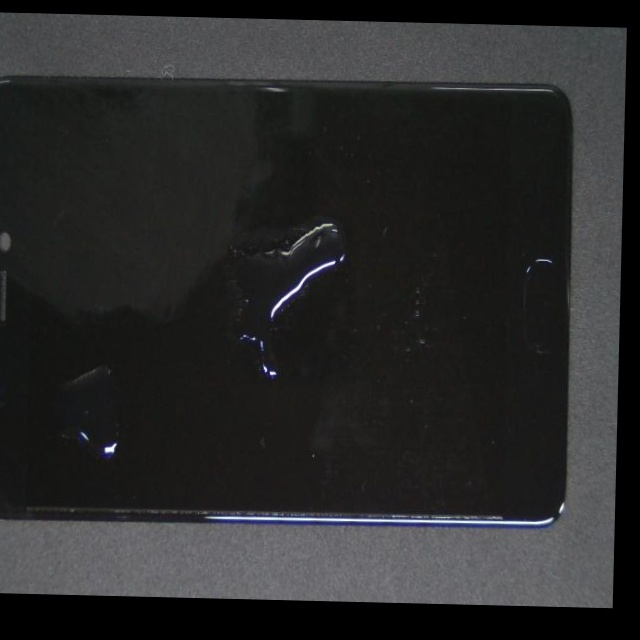oil: (91, 174, 422, 562), (64, 220, 198, 564)
